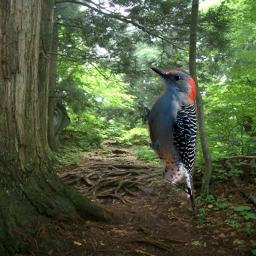Woodpecker: (138, 63, 198, 212)
